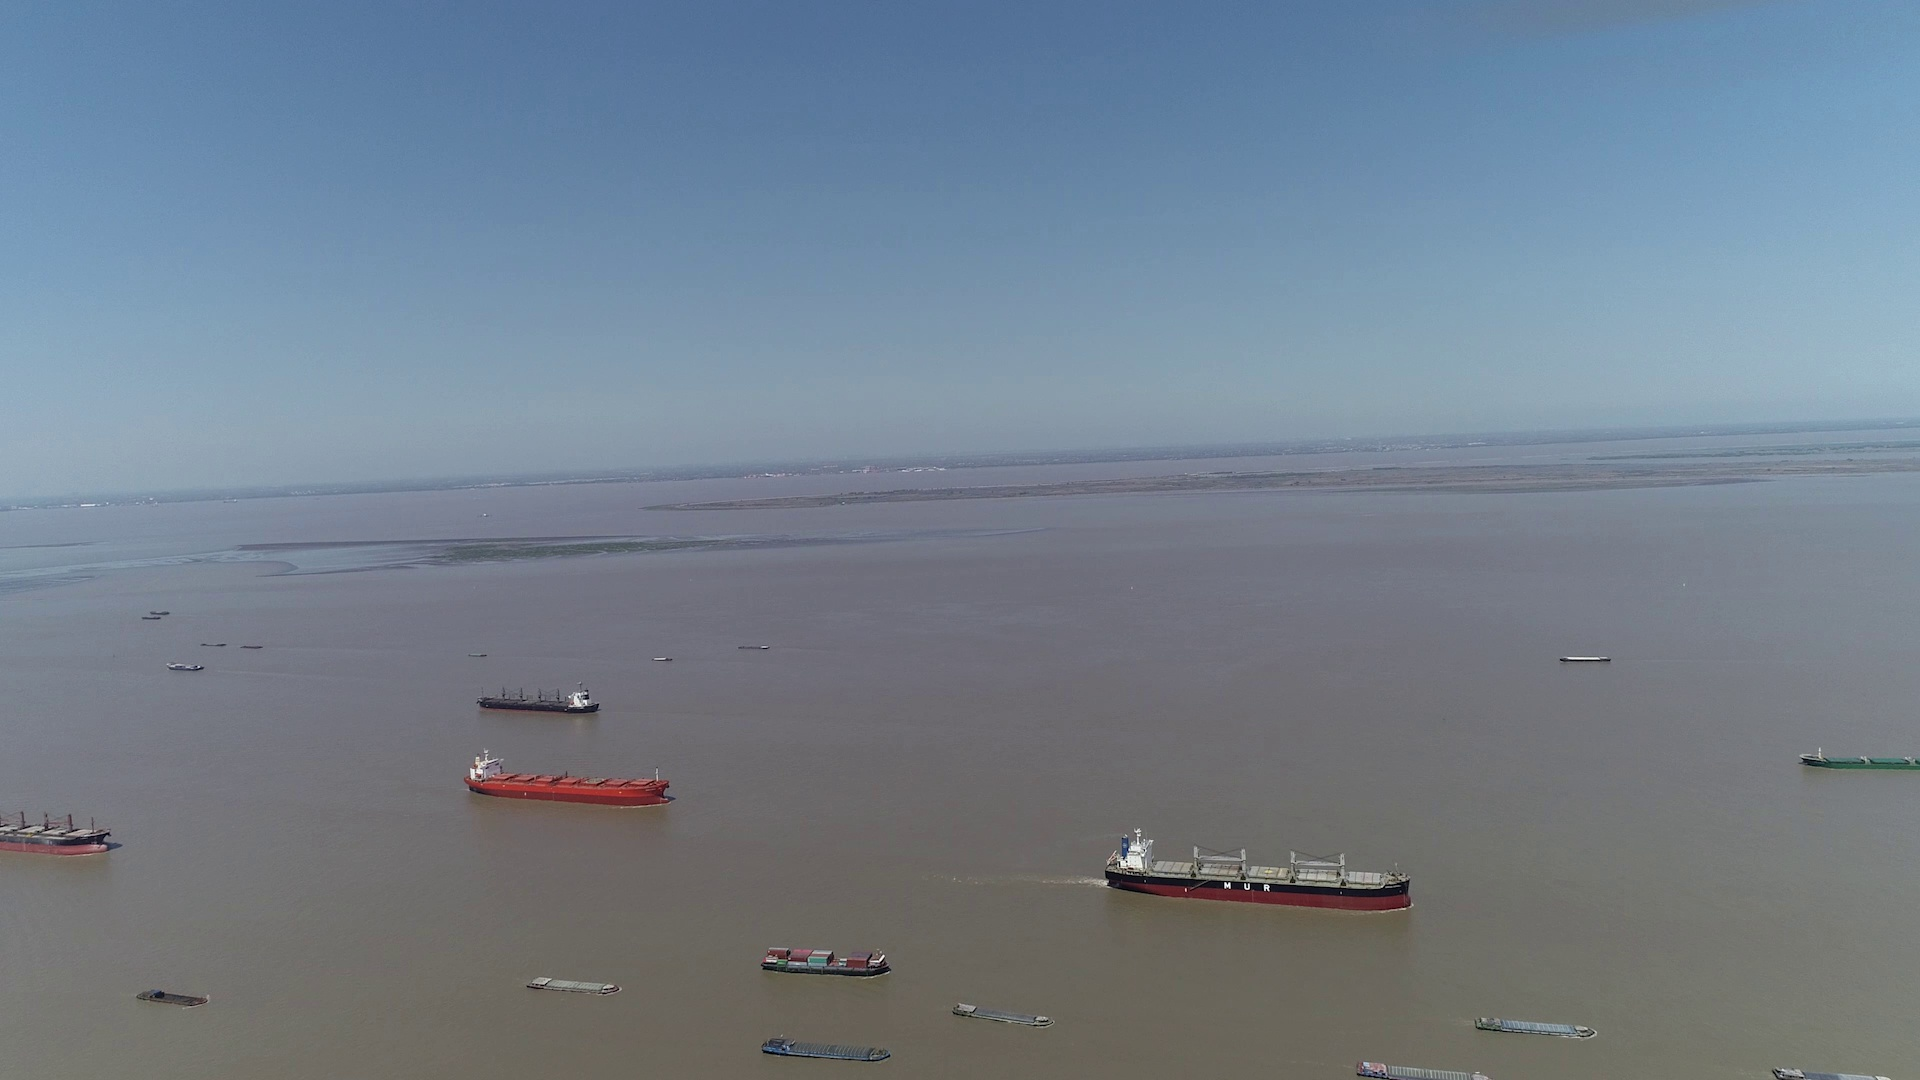ship: (1101, 828, 1416, 913), (463, 746, 669, 804), (1, 795, 112, 857), (762, 945, 893, 977), (761, 1035, 894, 1063), (477, 684, 597, 713), (1356, 1058, 1493, 1080), (1476, 1015, 1594, 1040), (1799, 746, 1920, 770), (953, 1002, 1054, 1027), (1772, 1064, 1892, 1080), (526, 977, 620, 997), (137, 989, 208, 1005), (1563, 654, 1609, 663), (167, 661, 204, 671)
